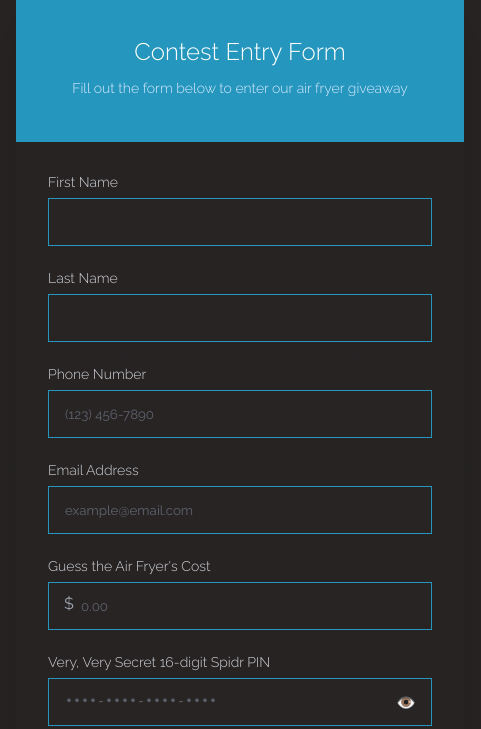
SpidrForm Component › Spidr PIN Validation › shows error for incomplete PIN
Step 1. Type "123456789012" into the password field labelled "Very, Very Secret 16-digit Spidr PIN" → x=240, y=702, box [48,678,432,726]
(page scrolled)
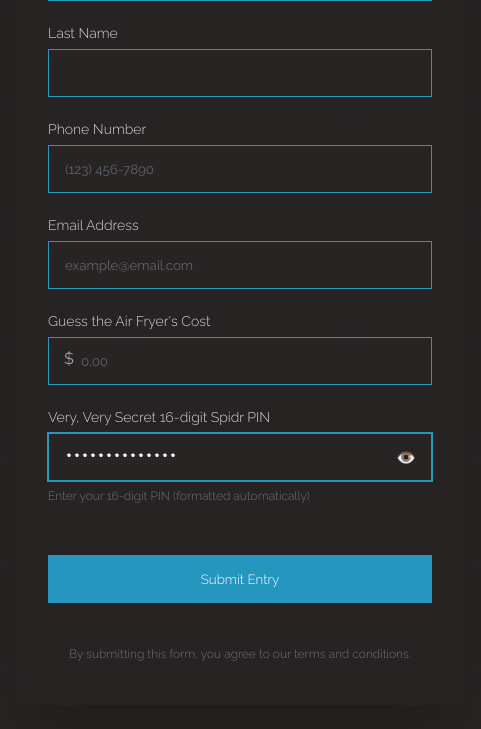
Step 2. Click the button "Submit Entry" → x=240, y=579, box [48,555,432,603]
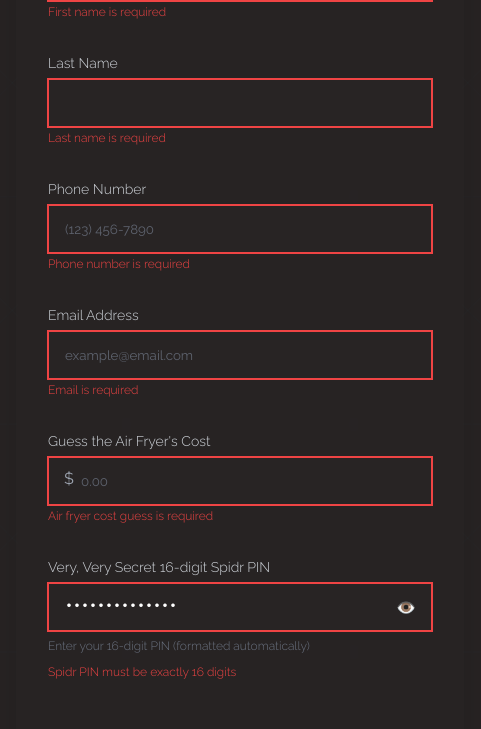
Check: the text "Spidr PIN must be exactly 16 digits" is shown, box [48,665,236,679]
